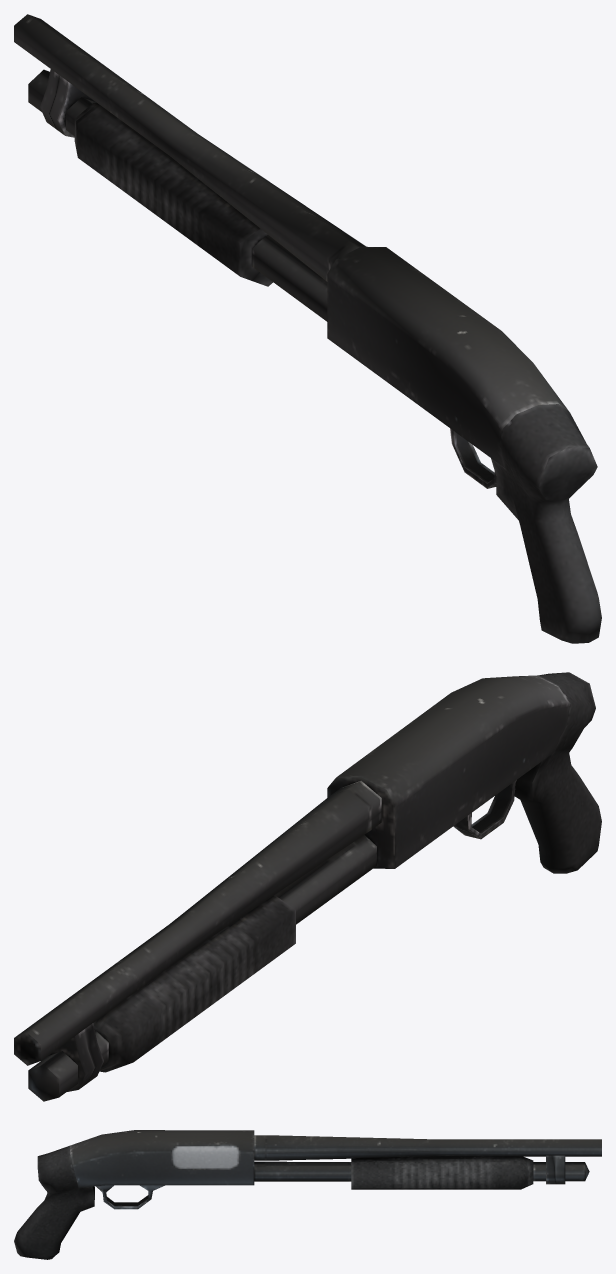
The model's file is Mossberg_Tactical_Black.fbx.
3 renders of one model, top to bottom at view 1: azimuth 30°, elevation 25°; view 2: azimuth 150°, elevation 25°; view 3: azimuth 270°, elevation 25°, orthographic. The views are drawn at different scales.
Parts seen in each view (by area): view 1: Mossberg_Tactical_Black; view 2: Mossberg_Tactical_Black; view 3: Mossberg_Tactical_Black.
Part boxes in pixels (x1,y1,x2,y2): Mossberg_Tactical_Black: (14,14,601,643); Mossberg_Tactical_Black: (14,672,601,1101); Mossberg_Tactical_Black: (14,1130,601,1259).
Size of the model in its own units: 0.0274 by 0.3957 by 0.0918.
